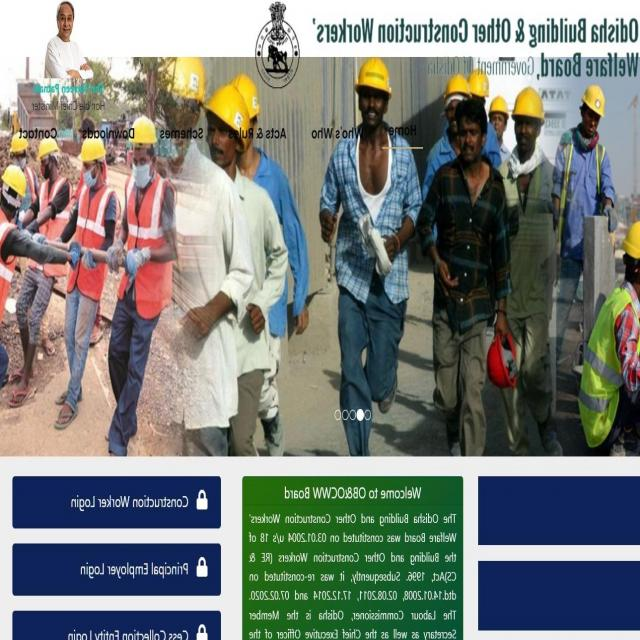Reflective-Jacket: (578, 286, 638, 446), (120, 171, 174, 312), (556, 131, 612, 244), (71, 180, 114, 292), (0, 205, 17, 319)
Safety-Helmet: (202, 73, 262, 145), (352, 55, 394, 98), (510, 82, 547, 124), (126, 112, 158, 150), (579, 80, 608, 118), (621, 214, 640, 266), (1, 162, 28, 196), (77, 135, 108, 164), (442, 69, 470, 101), (466, 64, 490, 99), (37, 136, 60, 161), (489, 93, 509, 117), (10, 133, 28, 156), (55, 1, 76, 15)
